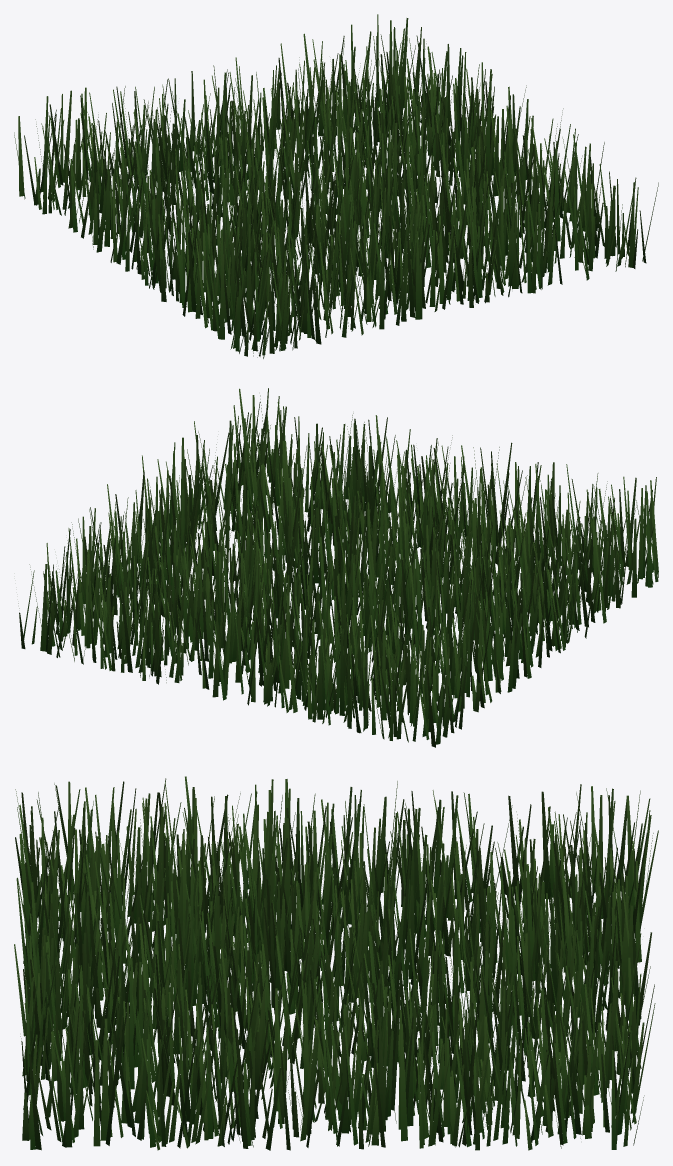
Rendered from Turf_Sedge_v1.glb.
3 views of the same model, one above another, from view 1: azimuth 30°, elevation 25°; view 2: azimuth 150°, elevation 25°; view 3: azimuth 270°, elevation 25° (orthographic). The views are drawn at different scales.
Parts seen in each view (by area): view 1: Turf_Sedge_v1; view 2: Turf_Sedge_v1; view 3: Turf_Sedge_v1.
Part boxes in pixels (x1=…): Turf_Sedge_v1: x1=14, y1=14, x2=658, y2=358; Turf_Sedge_v1: x1=18, y1=388, x2=658, y2=747; Turf_Sedge_v1: x1=14, y1=776, x2=658, y2=1150.
Size of the model in its own units: 1.29 by 0.25 by 1.28.
